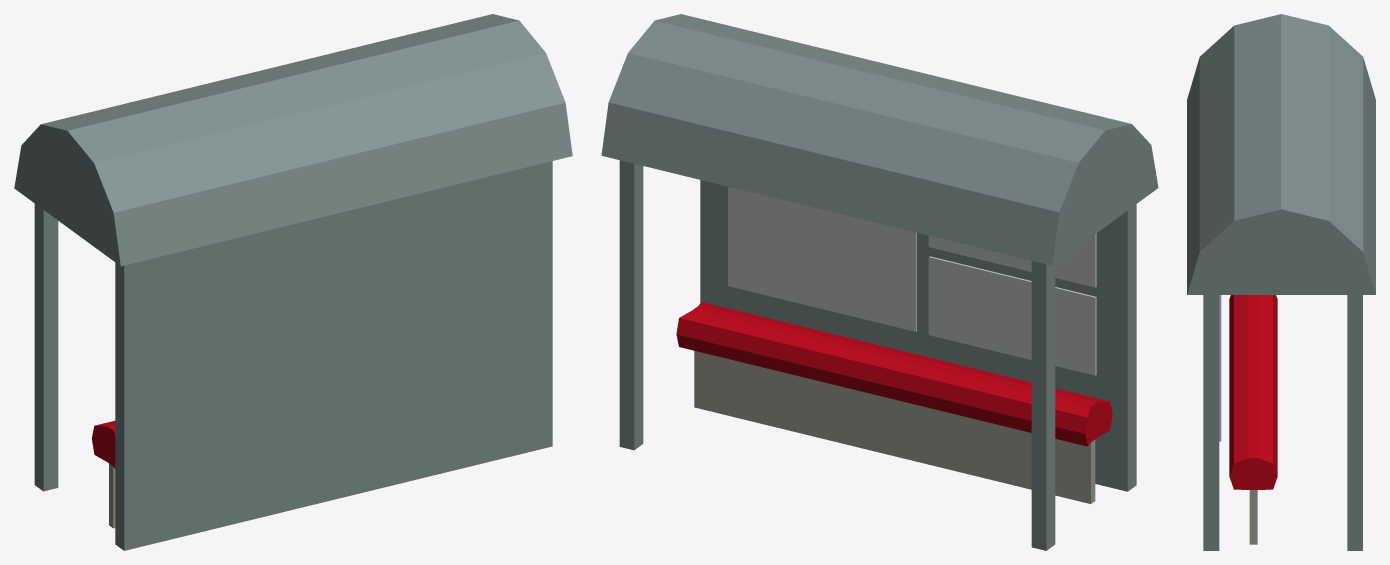
File: BusStop.fbx
3 views of the same model, side by side, from view 1: azimuth 30°, elevation 25°; view 2: azimuth 150°, elevation 25°; view 3: azimuth 270°, elevation 25° (orthographic). The views are drawn at different scales.
Parts seen in each view (by area): view 1: Cylinder; view 2: Cylinder; view 3: Cylinder.
Part boxes in pixels (<box>): Cylinder: <box>14,14,572,550</box>; Cylinder: <box>601,14,1158,550</box>; Cylinder: <box>1187,14,1375,550</box>.
Bounding box in the file's own units: 616 × 510 × 252.
